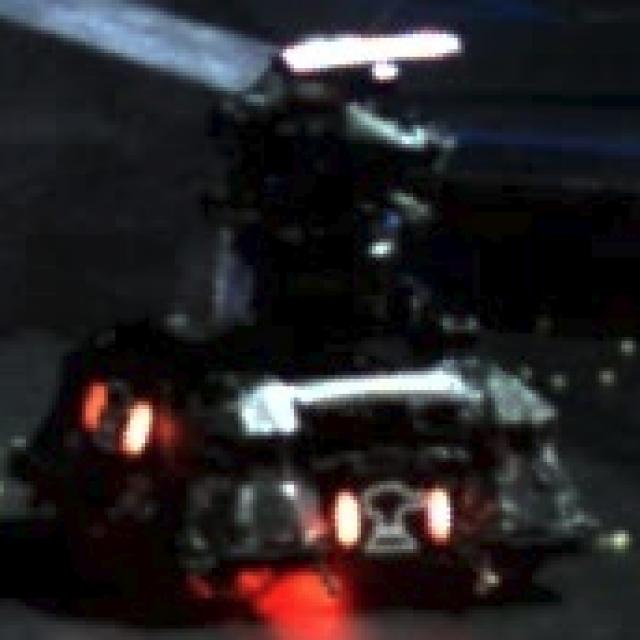Rs: (331, 469, 454, 553), (71, 375, 156, 454)
